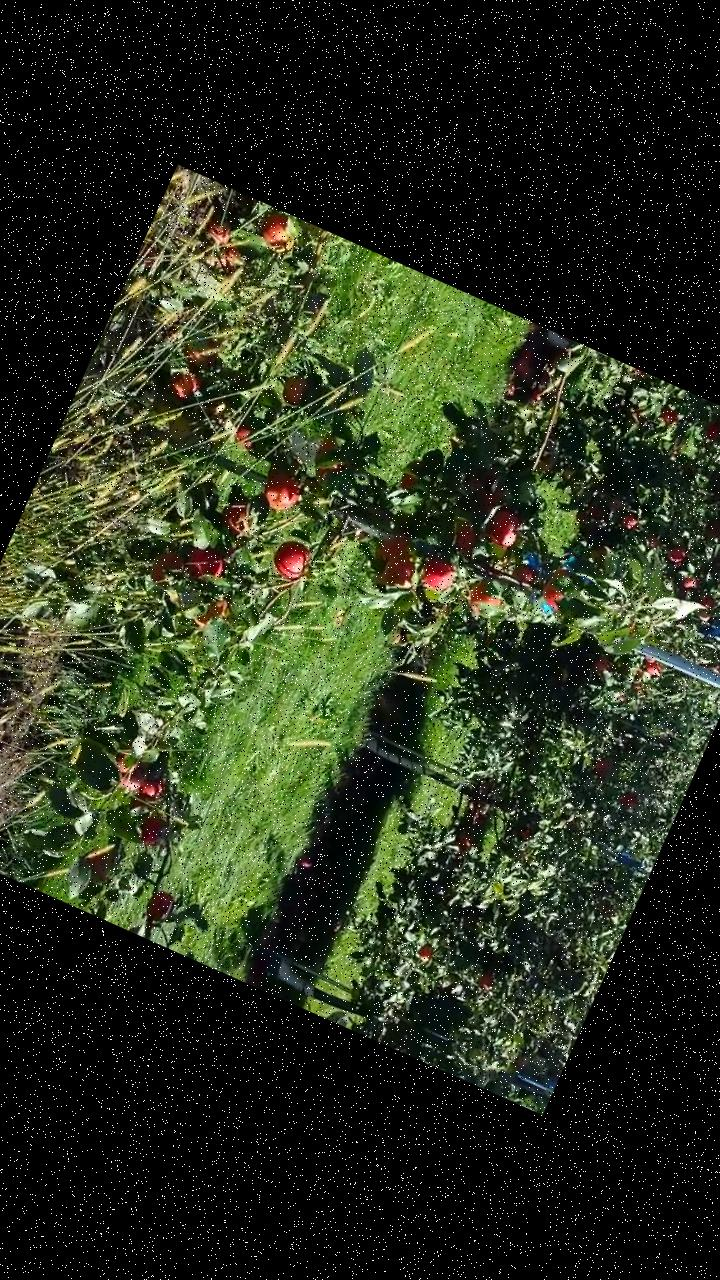Apple: (306, 432, 354, 486), (176, 538, 230, 586), (268, 535, 316, 586), (480, 505, 526, 554), (258, 467, 304, 516), (534, 563, 576, 616), (256, 210, 304, 256), (372, 526, 418, 572), (460, 576, 504, 622), (180, 332, 225, 376), (149, 542, 191, 588), (378, 548, 420, 592), (126, 810, 168, 854), (217, 498, 258, 540), (417, 554, 459, 594), (139, 886, 180, 926), (79, 843, 117, 886), (193, 588, 230, 632), (108, 741, 147, 782), (164, 365, 205, 402), (276, 369, 312, 407), (450, 522, 483, 559), (463, 465, 496, 498), (135, 770, 167, 804), (115, 761, 146, 794), (477, 488, 511, 518), (511, 556, 544, 584), (231, 423, 256, 448), (396, 472, 418, 492)
